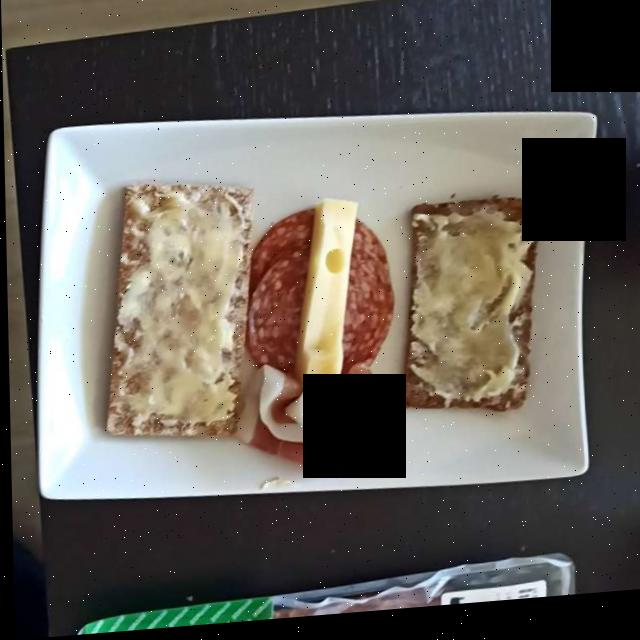butter: (120, 197, 522, 422)
crisp-bread-wasa: (91, 181, 546, 447)
ham-raw: (245, 362, 411, 470)
salami: (252, 215, 393, 396)
